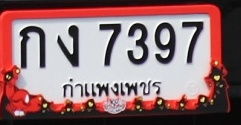txt01: (16, 24, 48, 71)
txt05: (55, 23, 83, 69)
